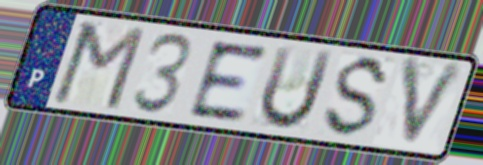3: (130, 30, 195, 116)
E: (186, 38, 272, 123)
M: (47, 19, 150, 114)
S: (319, 53, 395, 141)
U: (256, 42, 338, 133)
V: (395, 54, 471, 154)
